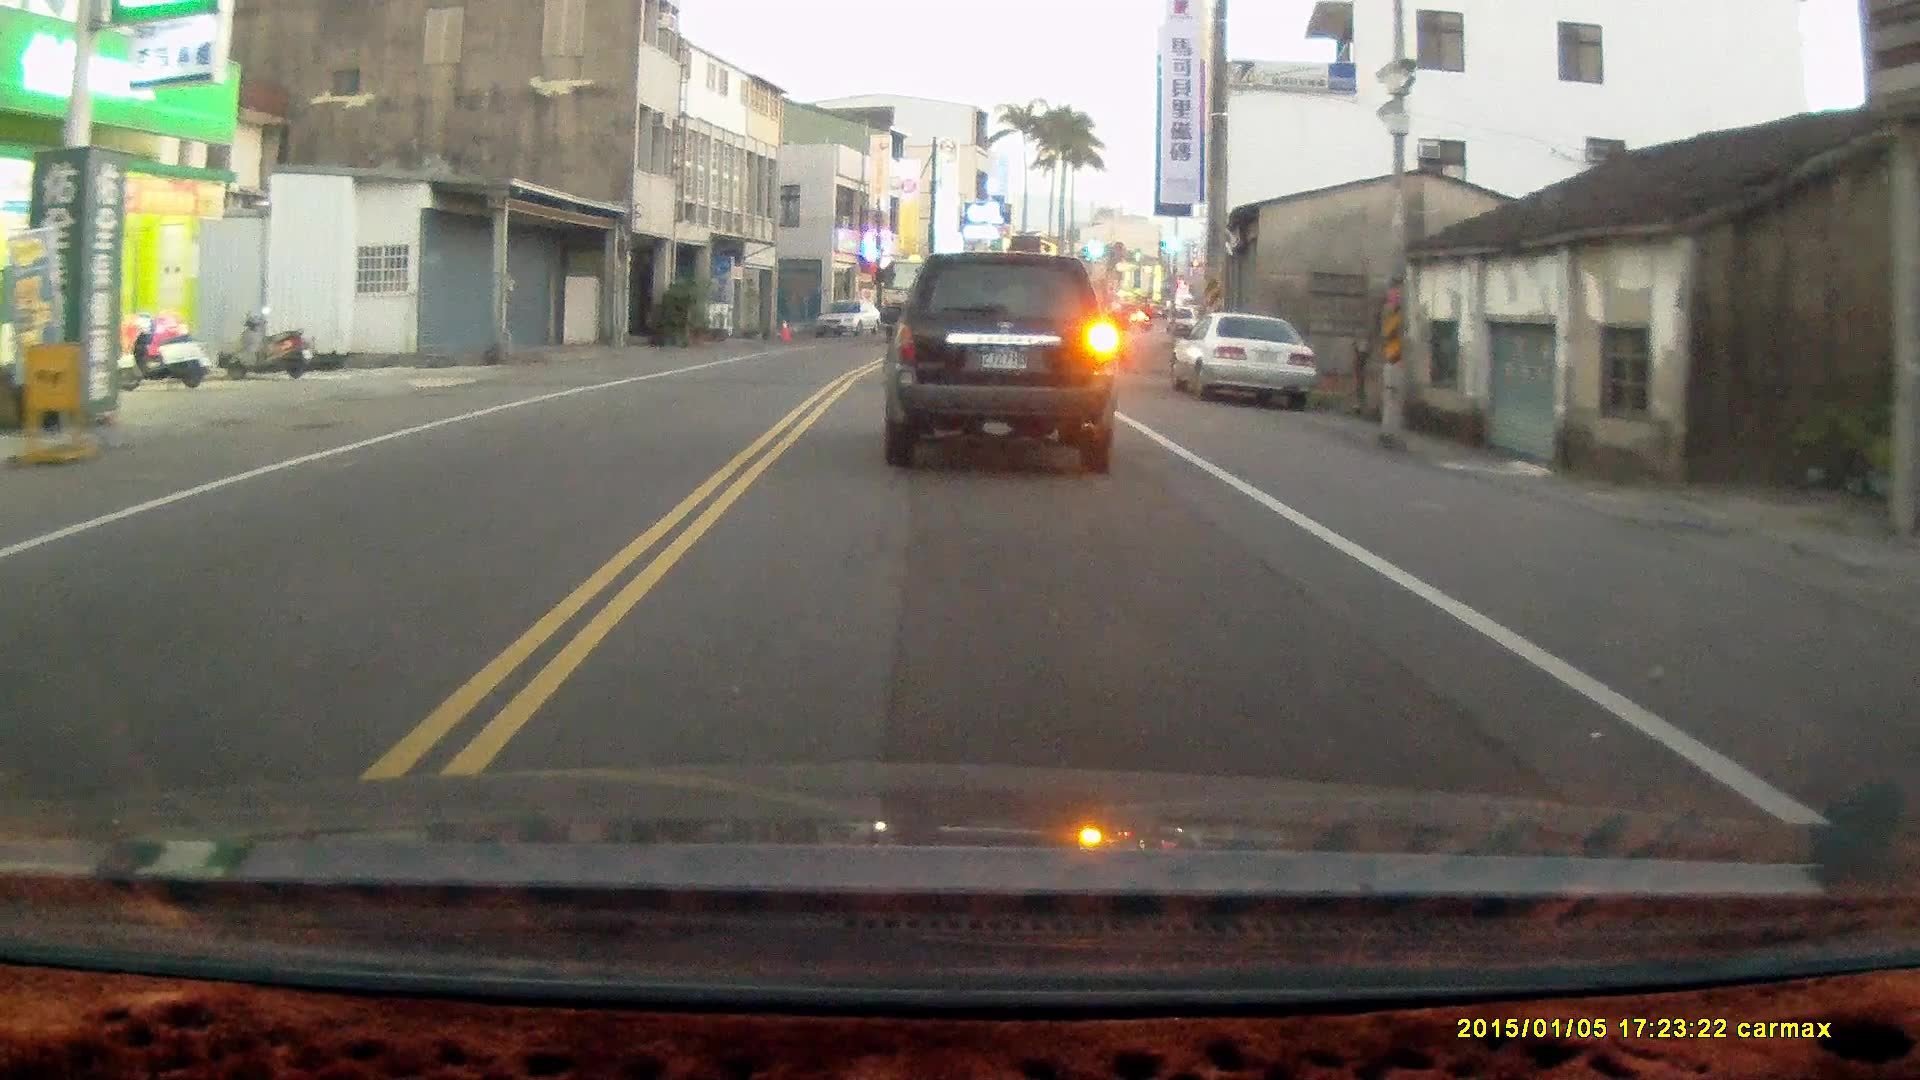rider: (1103, 298, 1133, 371)
vehicle: (882, 249, 1122, 477), (1173, 309, 1318, 404), (816, 298, 882, 344)
